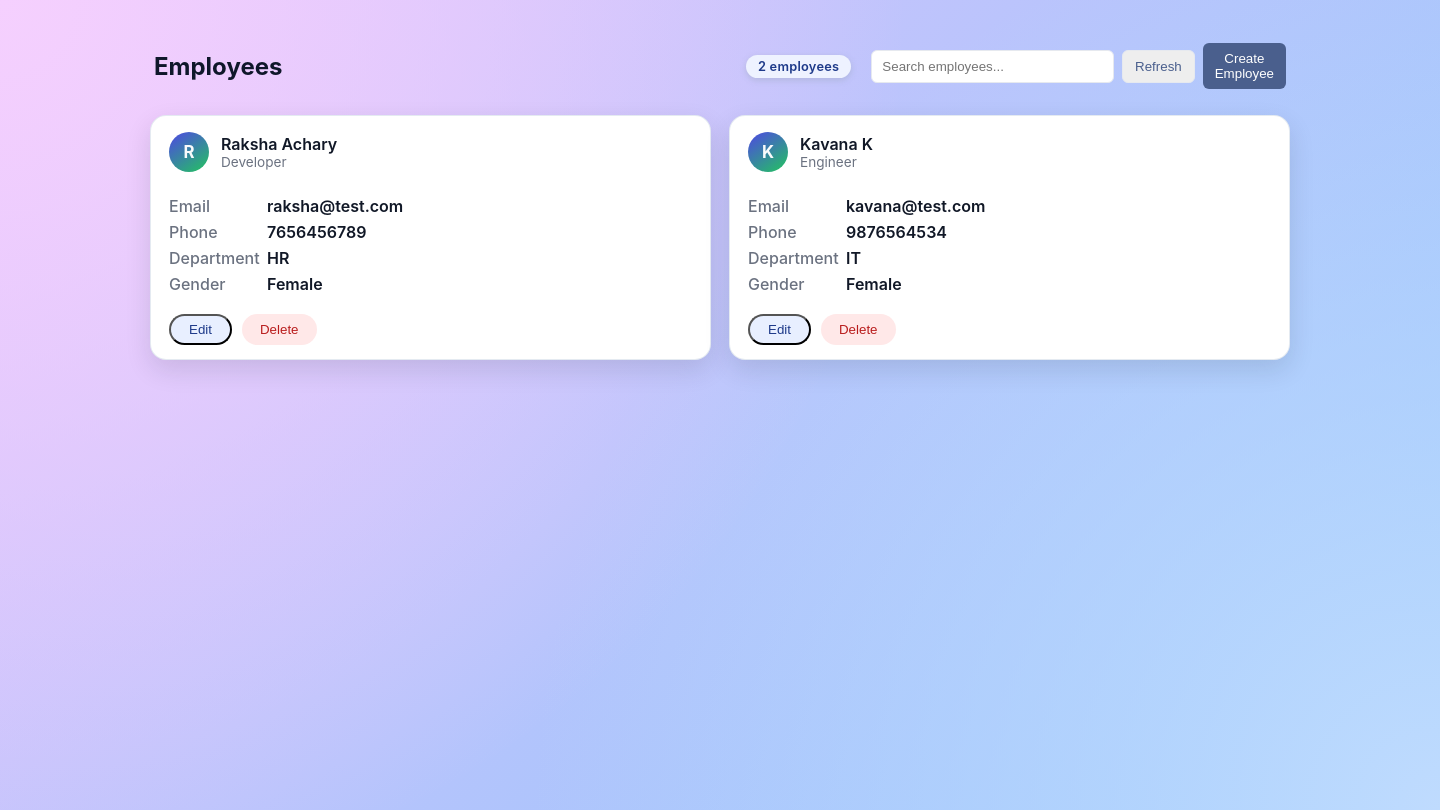
Test: EmployeeList › filters by search text
Expected: the text "Raksha Achary" is shown, [221,134,337,154]
Type "raksha" into the field with placeholder "Search employees...".
click(993, 66); type("raksha")  # box [871,50,1114,83]
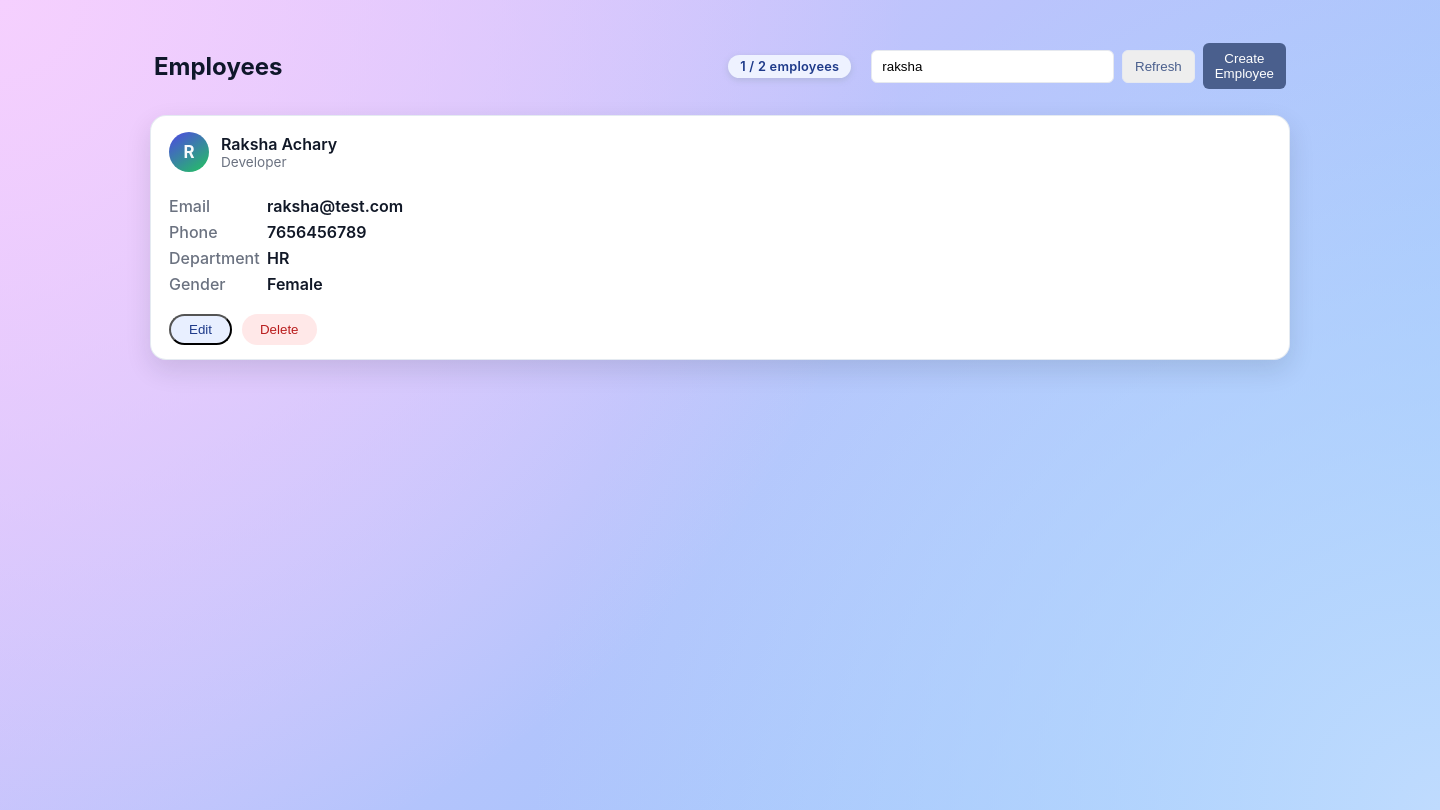
Expected: the text "Raksha Achary" is shown, [221,134,337,154]
Result: the text "Kavana K" is gone
Result: the text "1 / 2 employees" is shown at [728,55,851,78]
